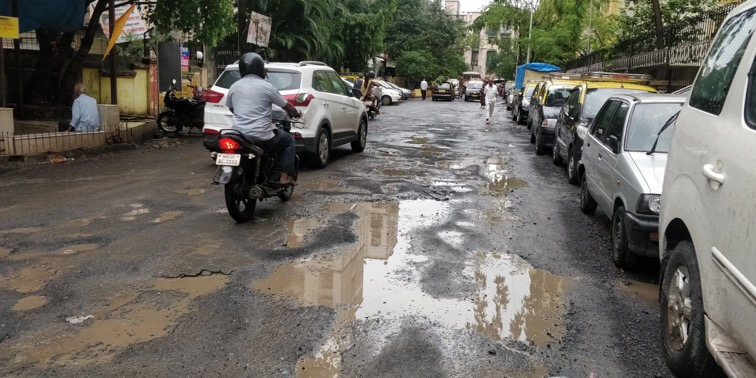pothole: (293, 183, 558, 366), (28, 254, 237, 373), (386, 99, 462, 166), (4, 225, 94, 271), (142, 195, 191, 232)
